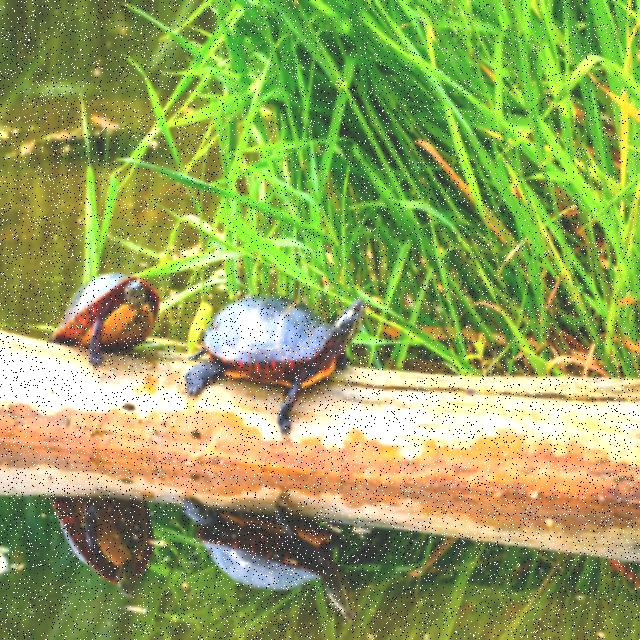tortoise: (164, 285, 378, 431)
